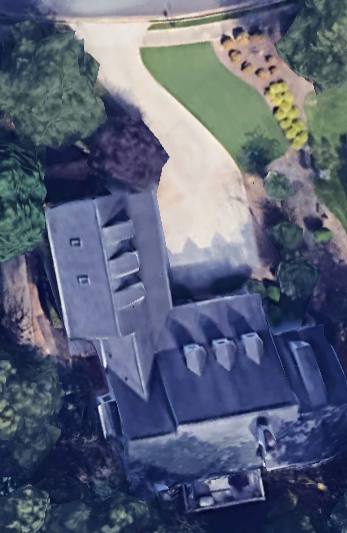driveway: (34, 0, 289, 307)
